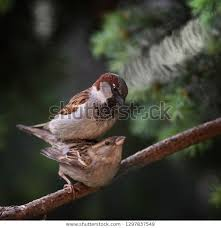home_sparrow: (19, 67, 134, 145), (13, 129, 139, 198)
